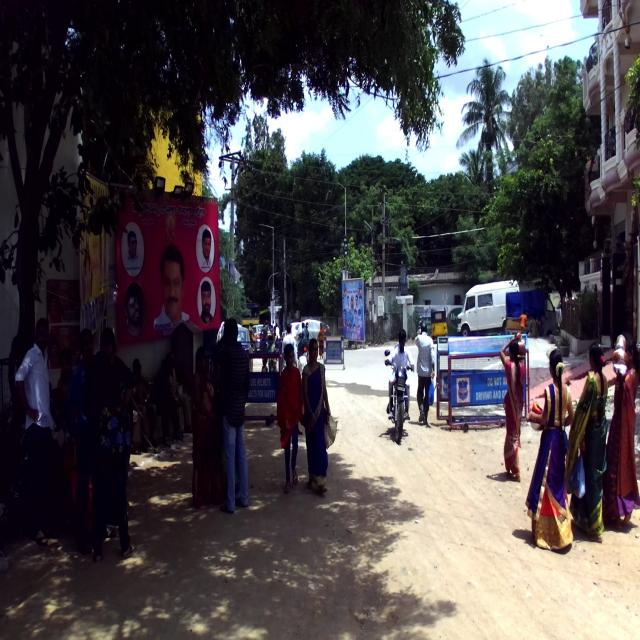autorickshaw: (430, 306, 447, 341)
mini-bus: (457, 277, 522, 337)
motorcycle: (384, 348, 413, 444)
truck: (504, 286, 560, 338)
